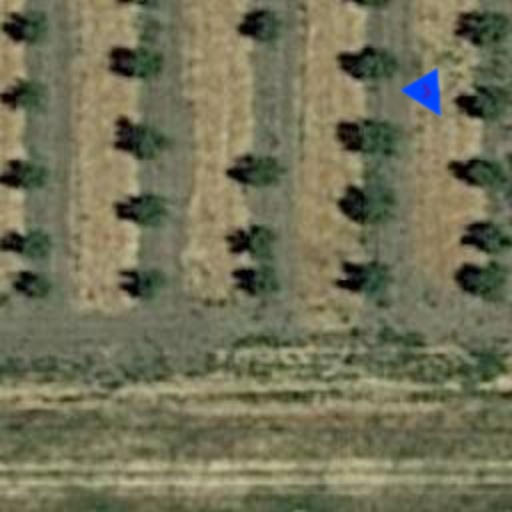triangle: (398, 66, 462, 130)
